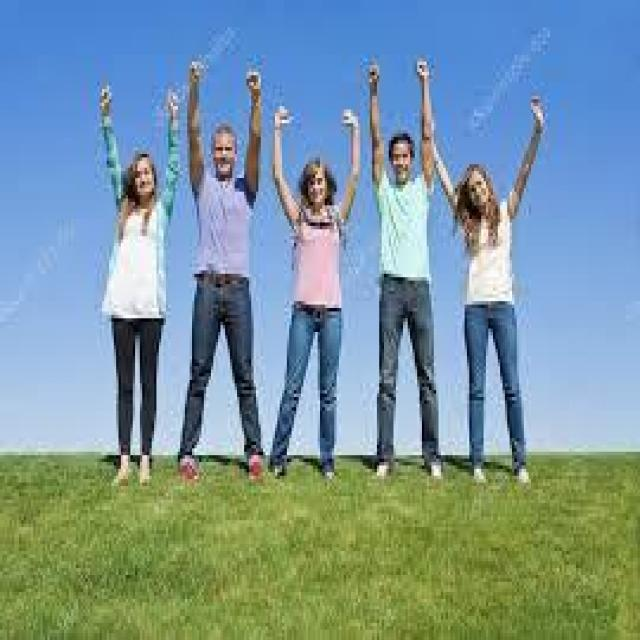person: (419, 86, 550, 496), (164, 24, 270, 483), (353, 27, 455, 500), (83, 58, 175, 490), (268, 86, 353, 486)
